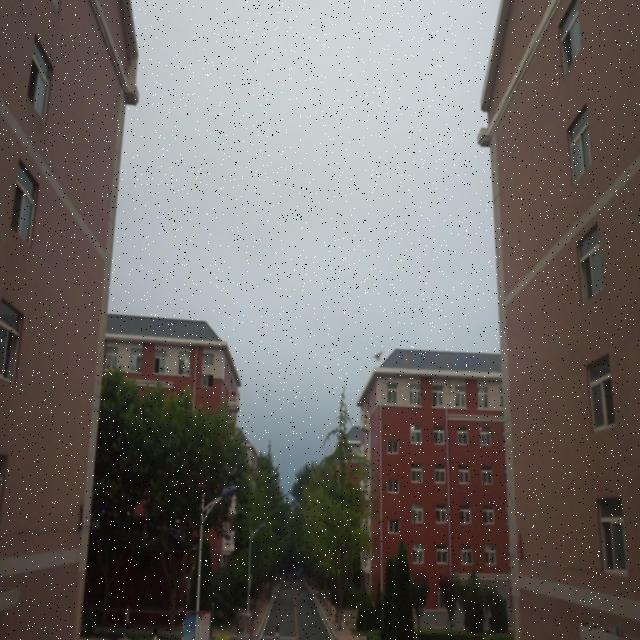UAV: (373, 351, 383, 361)
